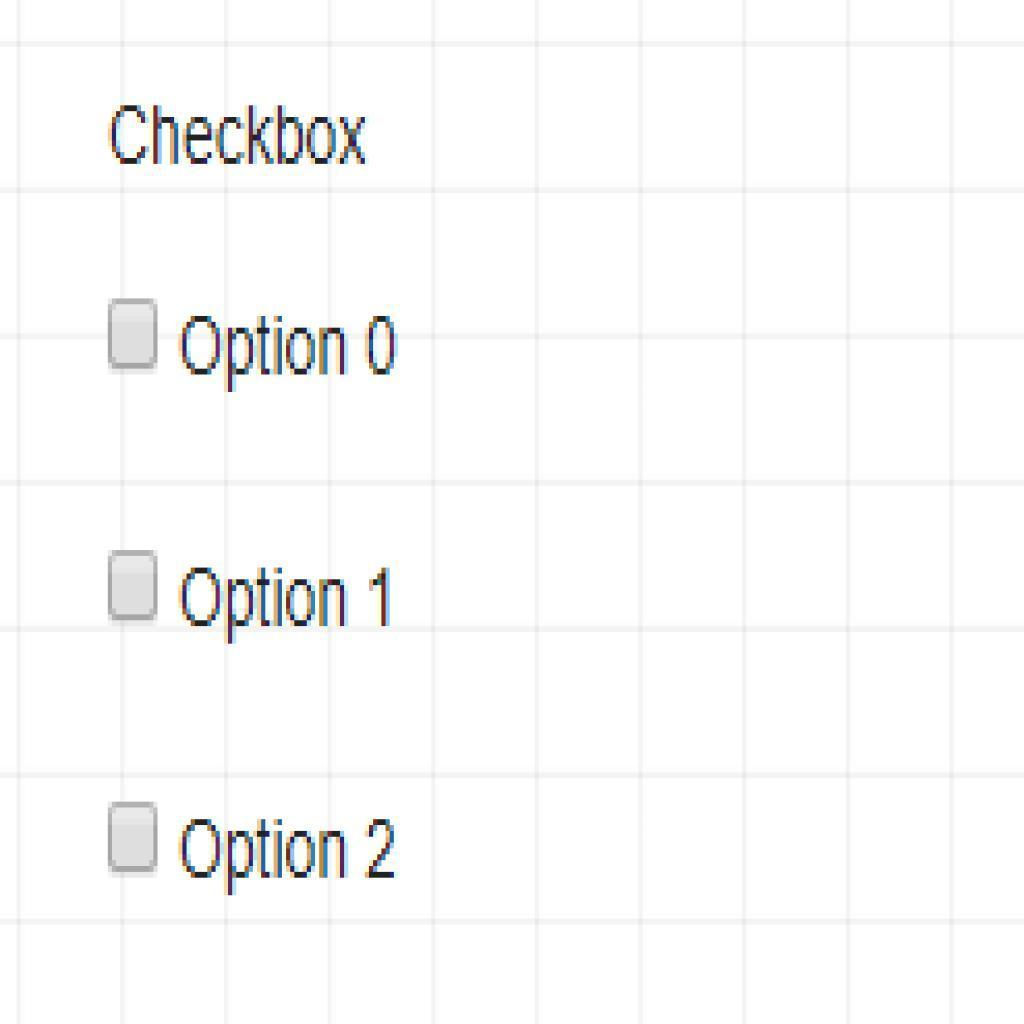checkbox: (109, 550, 161, 623), (108, 803, 161, 873), (108, 302, 160, 370)
label: (177, 301, 404, 391), (180, 811, 400, 899), (180, 561, 397, 648)
